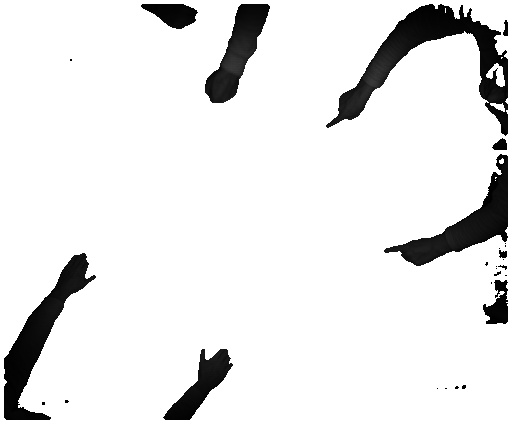fist: (200, 72, 240, 103)
hand: (384, 232, 440, 271), (57, 248, 95, 297), (320, 89, 369, 127), (196, 344, 239, 386)
